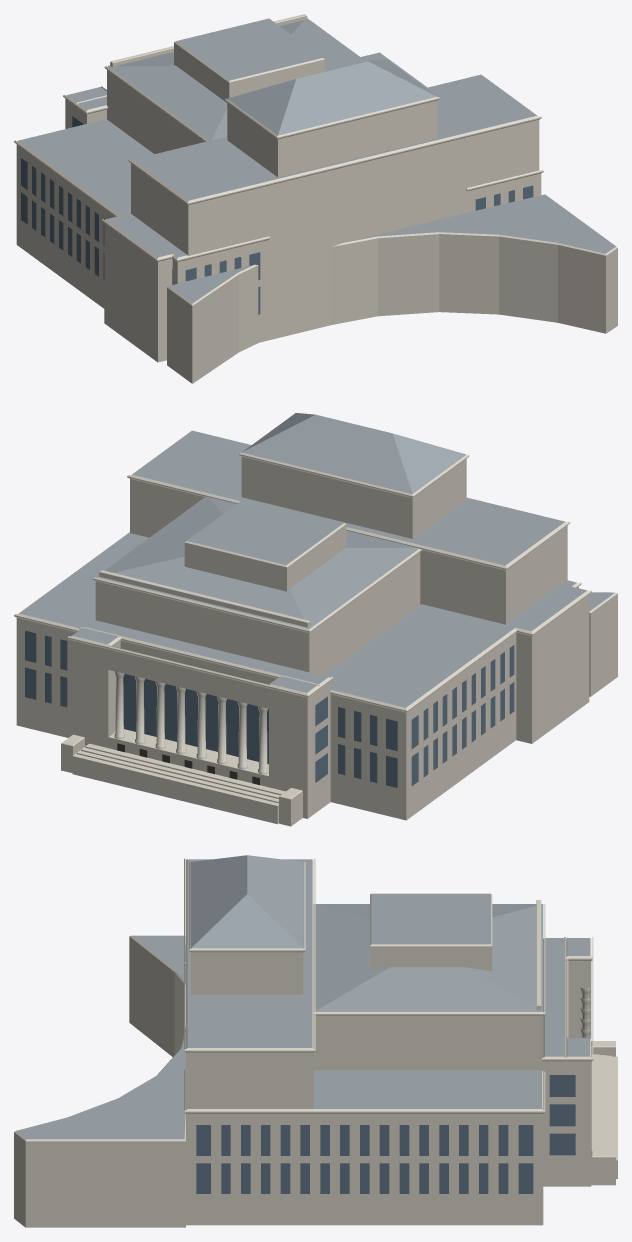
File: stl-stifel-theatre.glb
3 views of the same model, one above another, from view 1: azimuth 30°, elevation 25°; view 2: azimuth 150°, elevation 25°; view 3: azimuth 270°, elevation 25° (orthographic). The views are drawn at different scales.
Visible parts, largest first — view 1: Stifel Theatre; view 2: Stifel Theatre; view 3: Stifel Theatre.
Part boxes in pixels (left/top/right/bottom): Stifel Theatre: left=14, top=14, right=617, bottom=383; Stifel Theatre: left=14, top=413, right=617, bottom=826; Stifel Theatre: left=14, top=855, right=617, bottom=1227.
Bounding box in the file's own units: 96.4 × 54.6 × 118.
